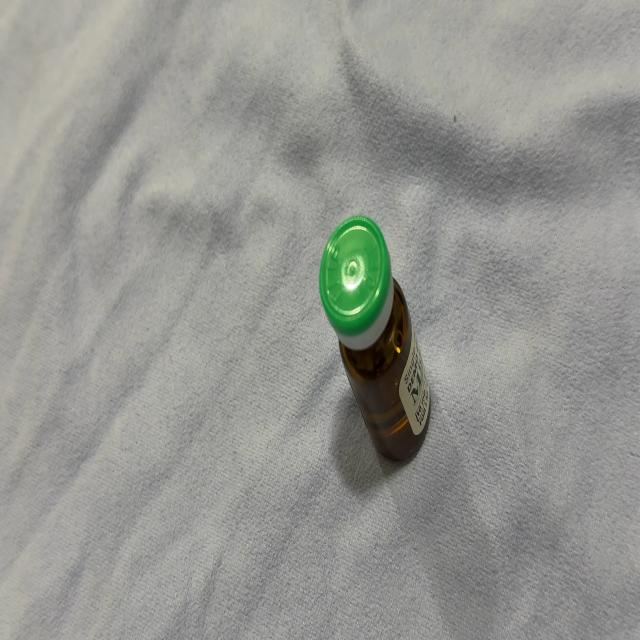midazolm: (321, 220, 428, 457)
